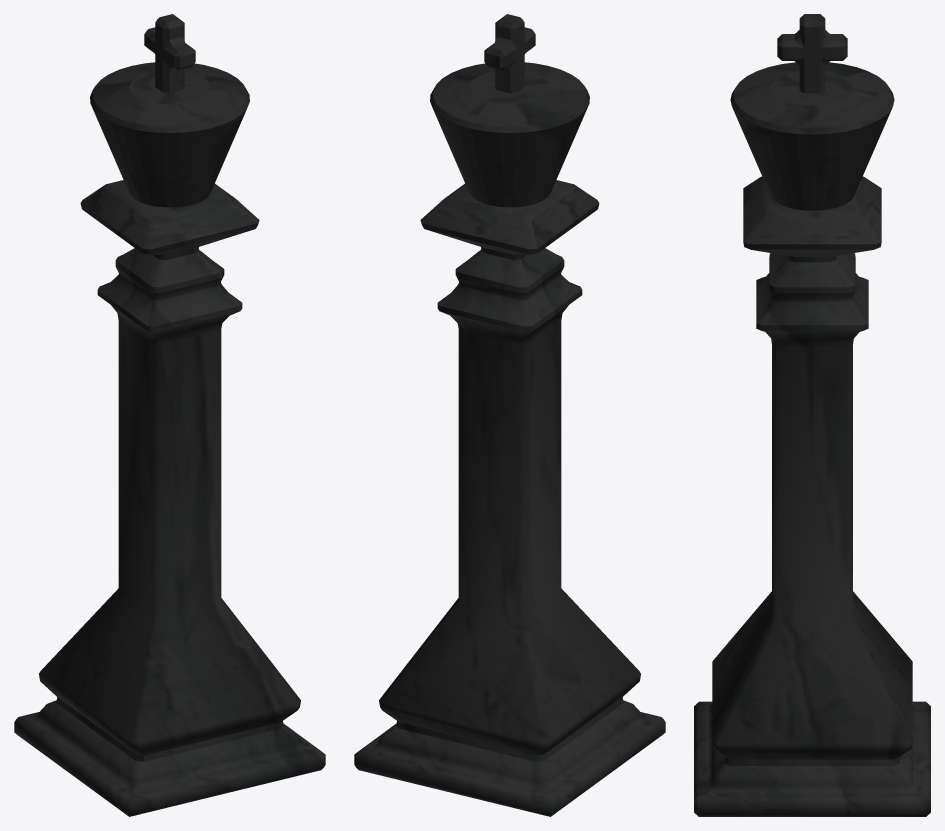
Rendered from chess_king_01-black.glb.
3 renders of one model, left to right at view 1: azimuth 30°, elevation 25°; view 2: azimuth 150°, elevation 25°; view 3: azimuth 270°, elevation 25°, orthographic. The views are drawn at different scales.
Visible parts, largest first — view 1: king_01; view 2: king_01; view 3: king_01.
Part boxes in pixels (bbox=[...]): king_01: bbox=[14, 14, 325, 816]; king_01: bbox=[354, 14, 665, 816]; king_01: bbox=[694, 14, 930, 816].
Bounding box in the file's own units: 0.5712 × 2 × 0.5712.
Materials: 1 (1 with a texture image).
